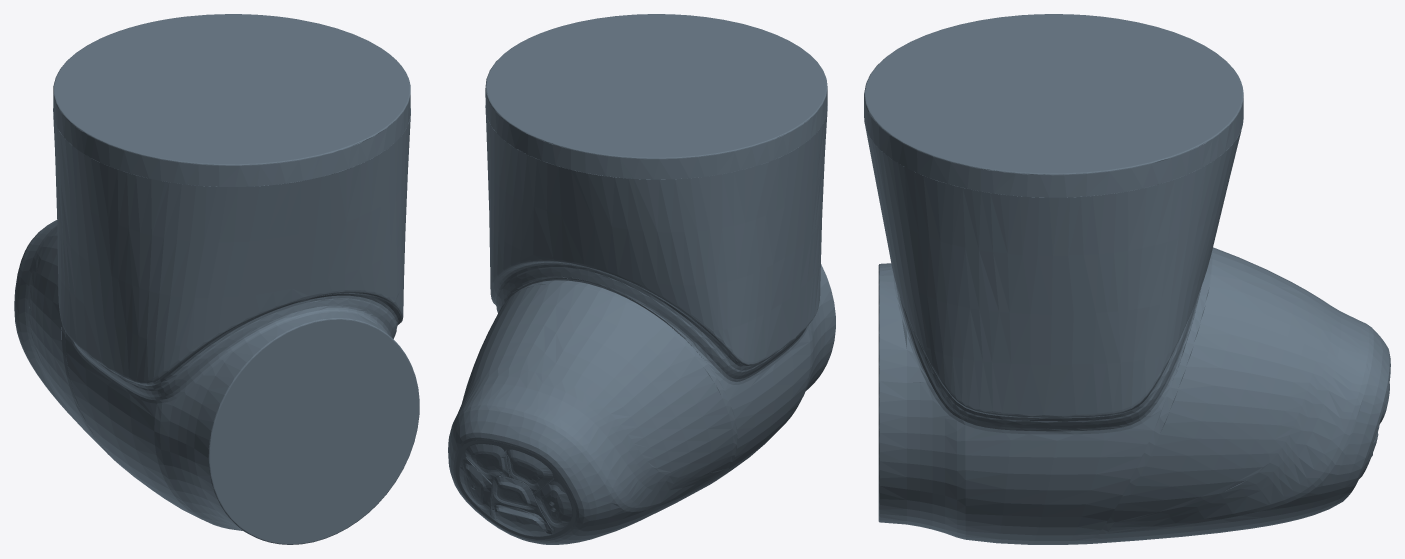
The picture shows the model from 3 angles, left to right: view 1: azimuth 30°, elevation 25°; view 2: azimuth 150°, elevation 25°; view 3: azimuth 270°, elevation 25°; orthographic projection. The views are drawn at different scales.
Visible parts, largest first — view 1: H2515_5_0; view 2: H2515_5_0; view 3: H2515_5_0.
Part boxes in pixels (x1,y1,x2,y2): H2515_5_0: [14, 14, 419, 544]; H2515_5_0: [448, 14, 835, 544]; H2515_5_0: [864, 14, 1390, 544].
Bounding box in the file's own units: 131 × 182 × 166.
